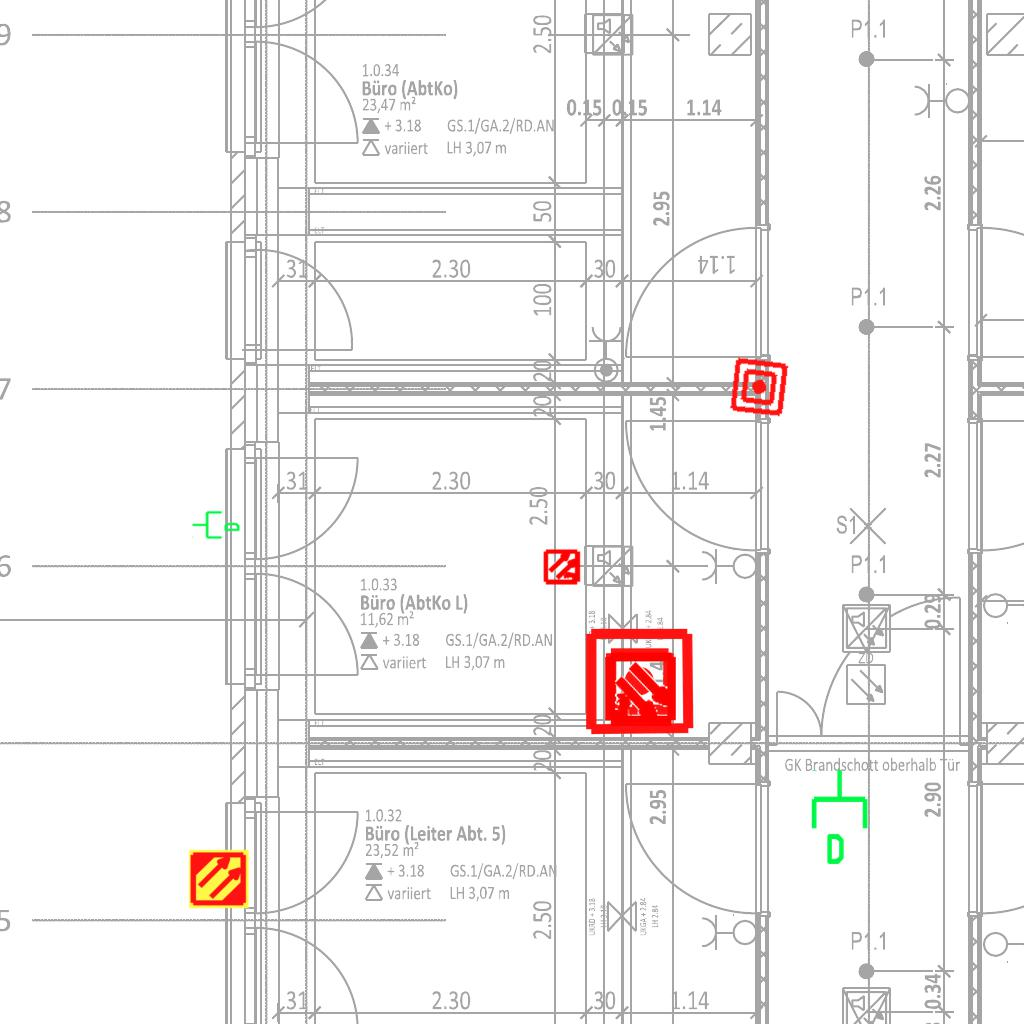ASR_Ansaugrauchmelder: (188, 848, 250, 910)
Datenanschluss_einfach: (807, 767, 876, 867), (191, 507, 241, 541)
NAM-Nichtautomatischer_Melder: (583, 625, 696, 738), (727, 355, 791, 419)
OT_Multisensormelder_(Kombination_RMO_WMD): (584, 635, 697, 748), (535, 539, 591, 595)
